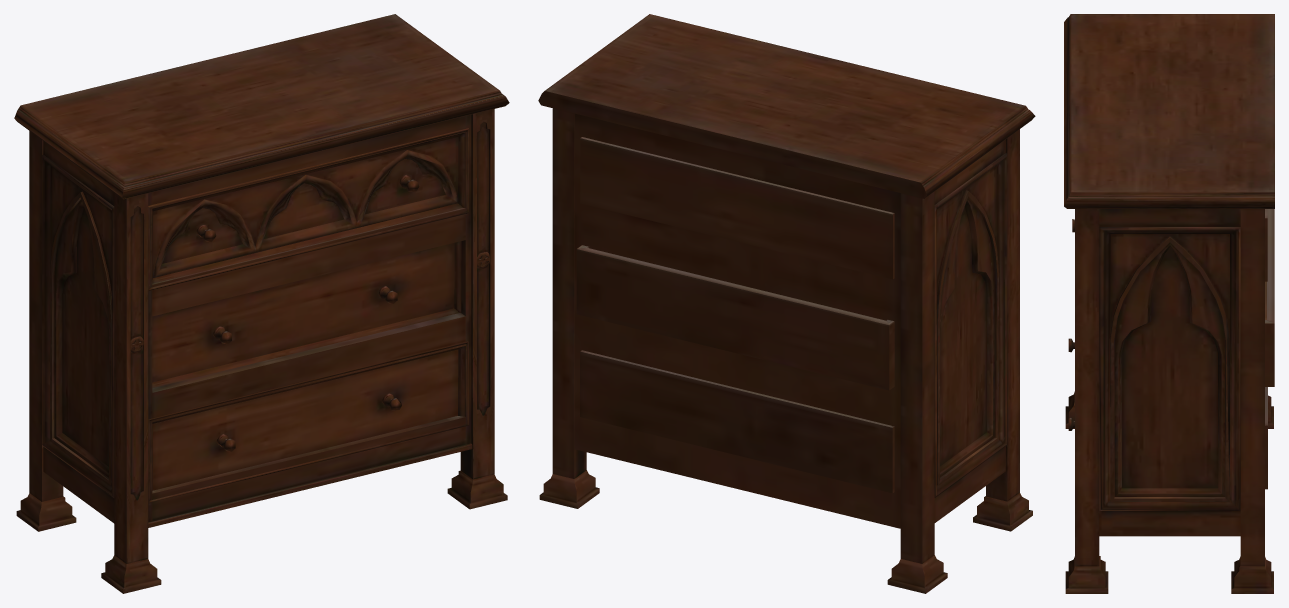
Rendered from GothicCommode_01.glb.
3 renders of one model, left to right at view 1: azimuth 30°, elevation 25°; view 2: azimuth 150°, elevation 25°; view 3: azimuth 270°, elevation 25°, orthographic. The views are drawn at different scales.
Visible parts, largest first — view 1: GothicCommode_01; view 2: GothicCommode_01; view 3: GothicCommode_01.
Boxes of the visible parts, bbox=[...] form: GothicCommode_01: bbox=[14, 14, 509, 593]; GothicCommode_01: bbox=[538, 14, 1035, 593]; GothicCommode_01: bbox=[1064, 14, 1274, 593].
Size of the model in its own units: 1.2 by 1.21 by 0.5806.
Materials: 1 (1 with a texture image).
